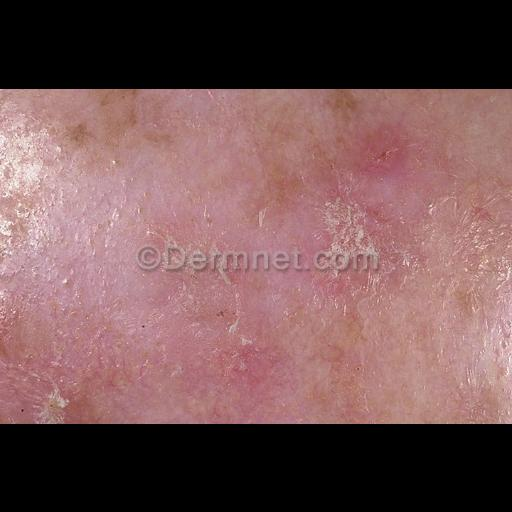Skin_Lesion: (298, 186, 386, 272), (214, 338, 274, 388), (358, 134, 410, 188), (22, 382, 88, 424), (98, 360, 128, 398), (56, 268, 78, 292), (126, 88, 146, 98)
